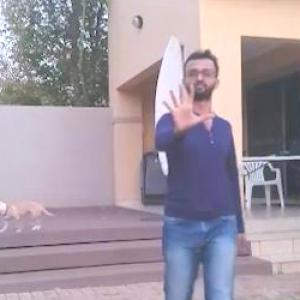follow_hand: (157, 77, 220, 139)
